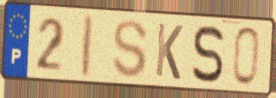0: (230, 24, 264, 89)
2: (34, 16, 67, 74)
I: (78, 12, 96, 80)
K: (153, 21, 185, 83)
S: (111, 18, 150, 81), (190, 23, 226, 85)
